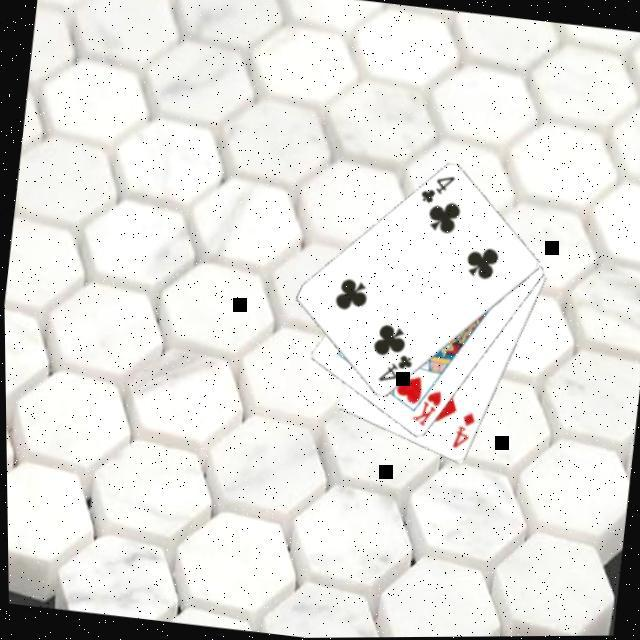4C: (414, 168, 457, 208), (372, 347, 414, 387)
4D: (446, 407, 477, 453)
KH: (405, 383, 443, 431)
